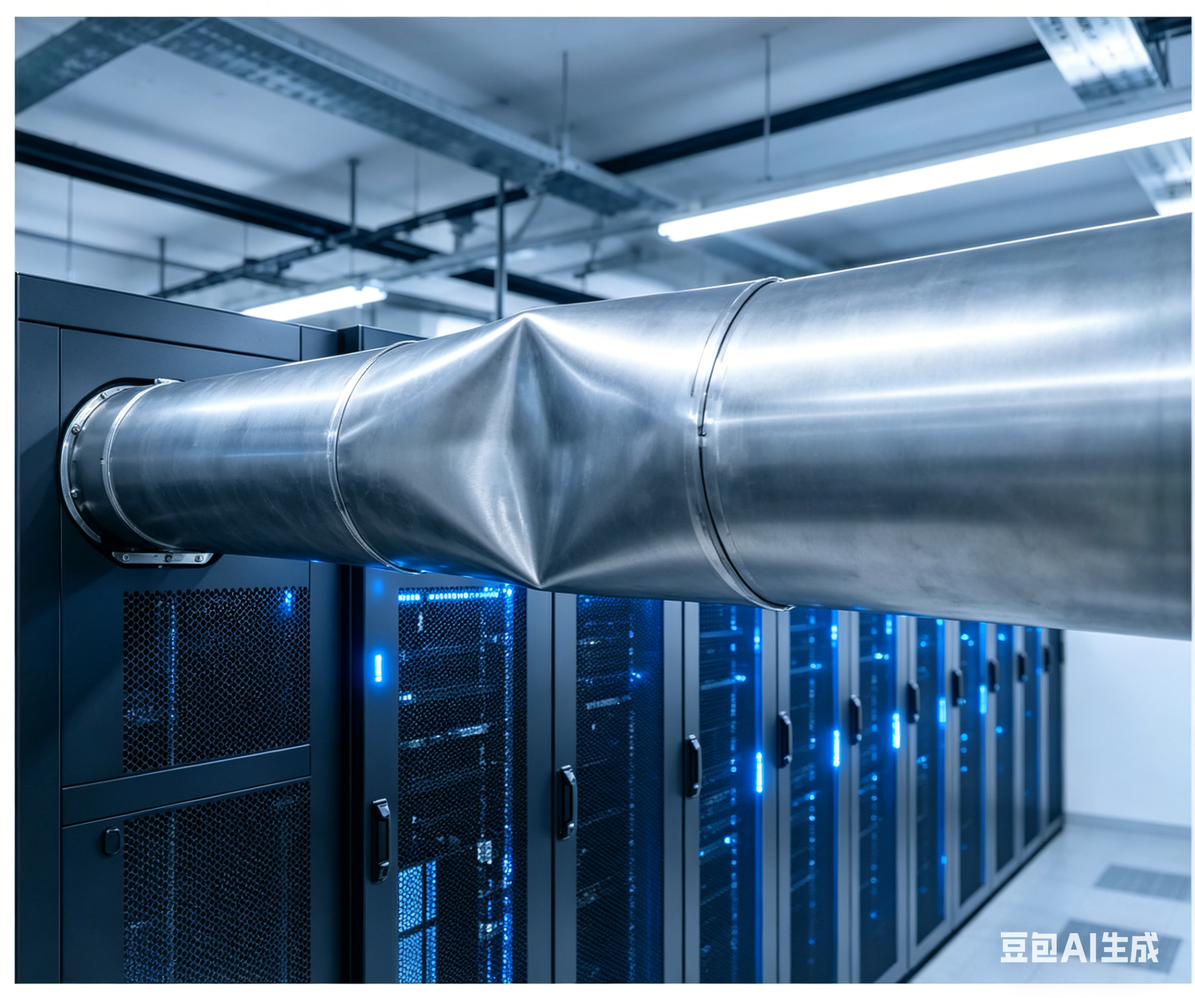Leakage: (403, 308, 679, 589)
